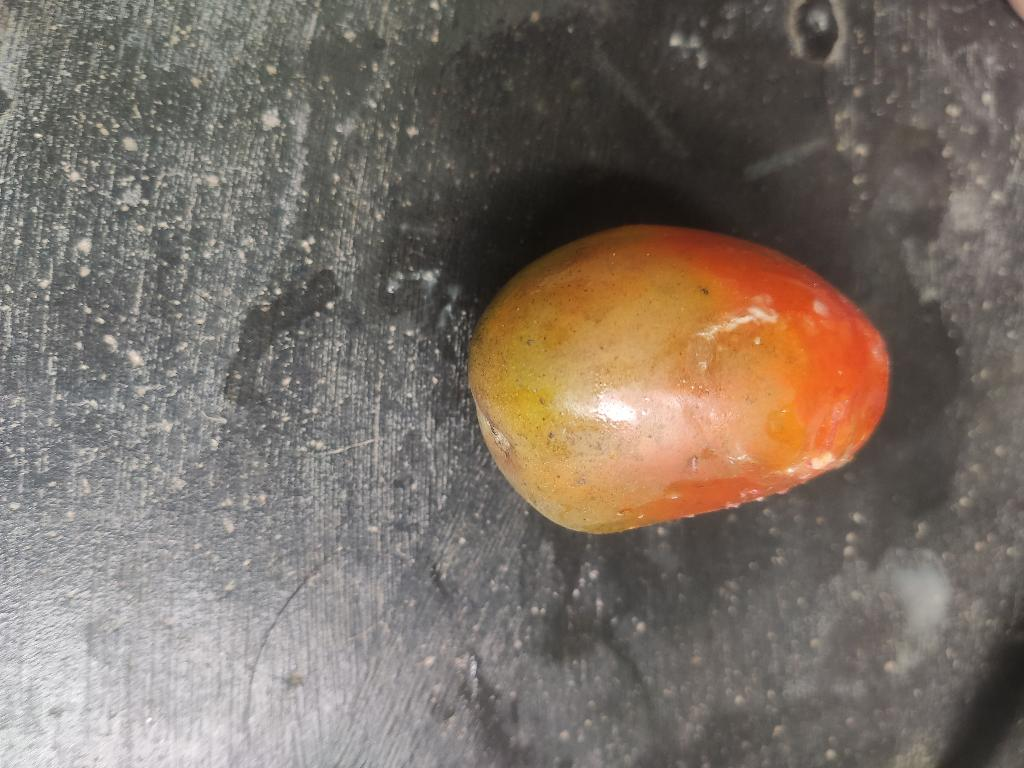bruise_discoloration: (697, 307, 777, 338), (788, 451, 838, 477)
tomato: (470, 226, 889, 532)
